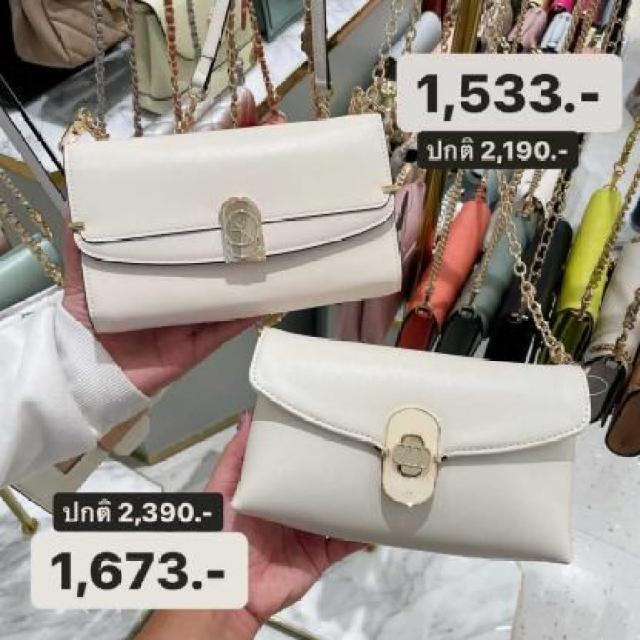Bag: (234, 330, 608, 584), (33, 106, 427, 340)
